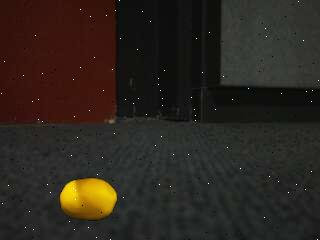Lemon: (56, 177, 120, 221)
